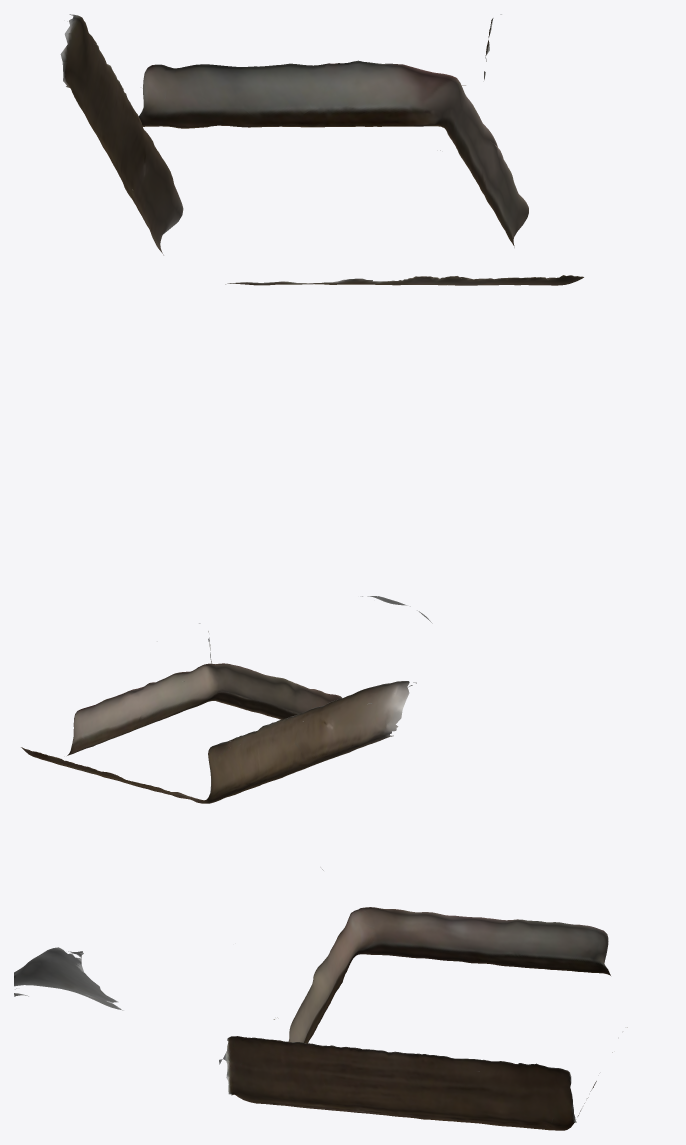
The picture shows the model from 3 angles, top to bottom: view 1: azimuth 30°, elevation 25°; view 2: azimuth 150°, elevation 25°; view 3: azimuth 270°, elevation 25°; orthographic projection. The views are drawn at different scales.
Bounding box in the file's own units: 0.928 × 0.2466 × 0.897.
1 material, 1 textured.
